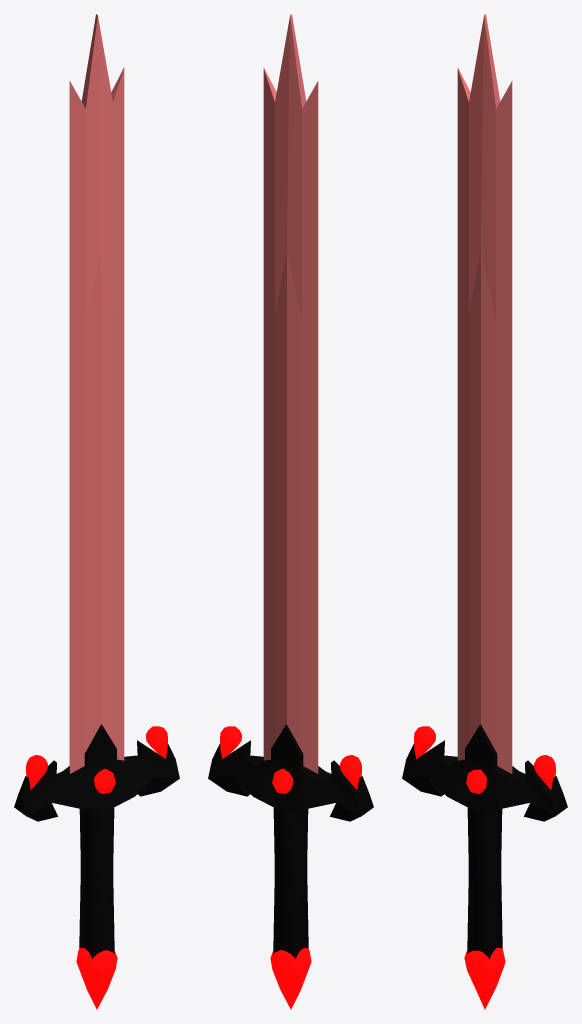
Rendered from sword_01.fbx.
3 renders of one model, left to right at view 1: azimuth 30°, elevation 25°; view 2: azimuth 150°, elevation 25°; view 3: azimuth 330°, elevation 25°, orthographic.
Parts seen in each view (by area): view 1: Cube.002, Cube.001, Cube, Icosphere, Icosphere.001, Icosphere.002; view 2: Cube.002, Cube.001, Cube, Icosphere, Icosphere.001, Icosphere.002; view 3: Cube.002, Cube.001, Cube, Icosphere, Icosphere.001, Icosphere.002.
Part boxes in pixels (x1,y1,x2,y2): Cube.002: (69,14,124,773); Cube.001: (14,724,179,821); Cube: (79,808,114,959); Icosphere: (76,948,117,1009); Icosphere.001: (26,726,167,789); Icosphere.002: (94,768,115,793); Cube.002: (263,14,318,773); Cube.001: (208,724,373,821); Cube: (273,808,308,959); Icosphere: (270,948,311,1009); Icosphere.001: (220,726,361,789); Icosphere.002: (272,768,293,793); Cube.002: (457,14,512,773); Cube.001: (402,724,567,821); Cube: (467,808,502,959); Icosphere: (464,947,505,1009); Icosphere.001: (414,726,555,789); Icosphere.002: (466,769,486,793).
Bounding box in the file's own units: 1369 × 8441 × 396.
